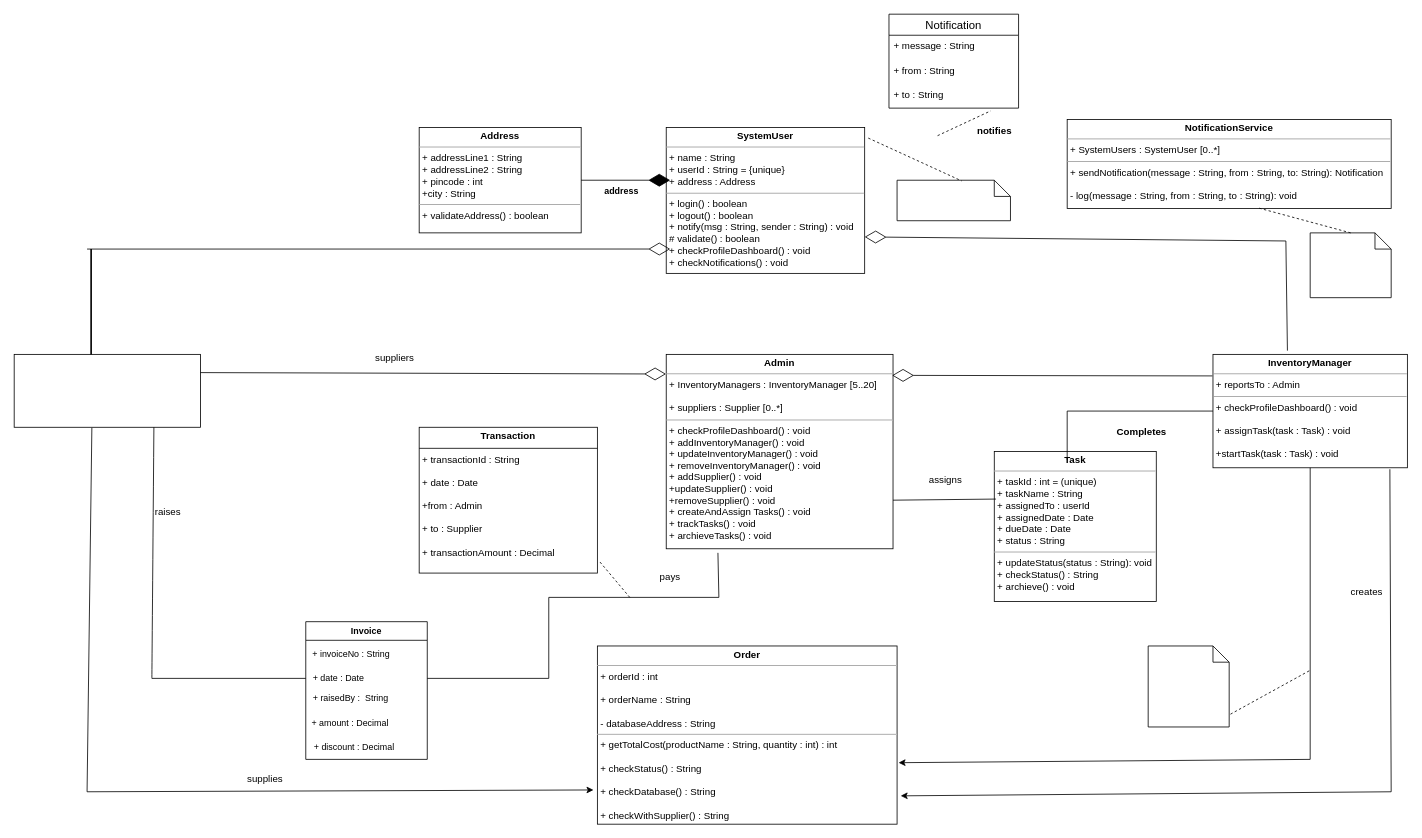
Image size: 1422x838. Some labels were removed from this diagram. The centre of each missing label's shape, as x and y in pixels:
(userId.length = 8): point 953,200
from and to are userIds and not names: point 1350,265
Save placed orders in database table or file named incomplete_orders: point 1188,686
Supplier + raisedInvoices : Invoice [0..*] + checkProfileDashboard() : void: point 106,390
